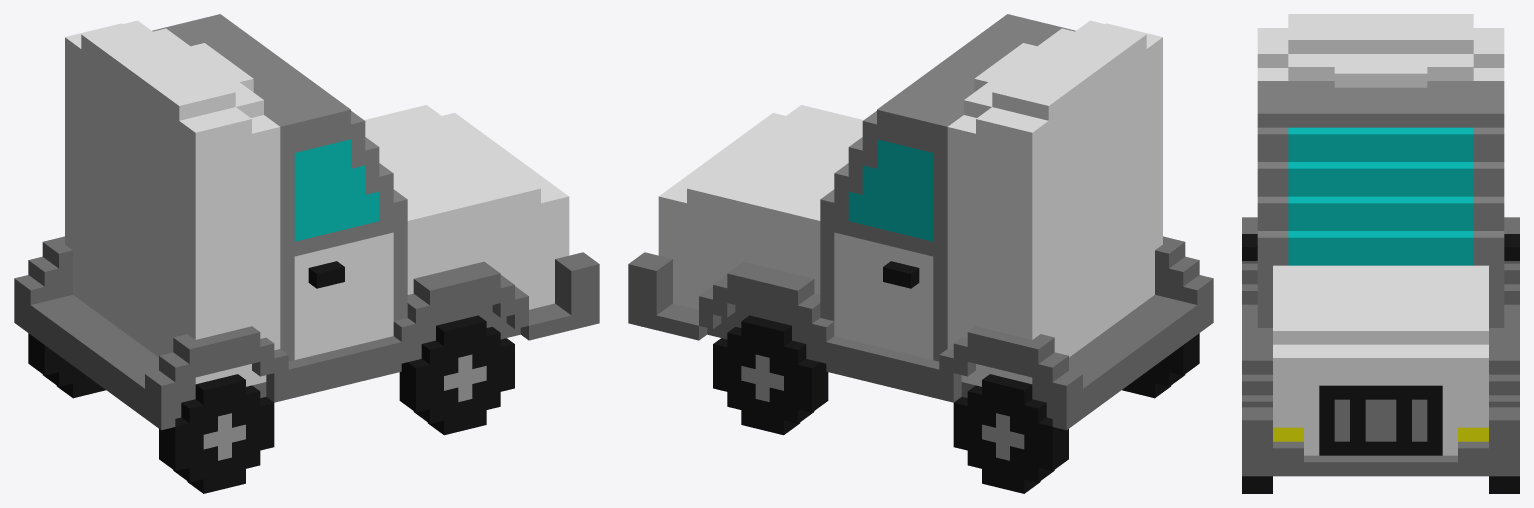
Rendered from truck1_health3.obj.
The picture shows the model from 3 angles, left to right: view 1: azimuth 30°, elevation 25°; view 2: azimuth 150°, elevation 25°; view 3: azimuth 270°, elevation 25°; orthographic projection. The views are drawn at different scales.
Visible parts, largest first — view 1: truck1_health3; view 2: truck1_health3; view 3: truck1_health3.
Part boxes in pixels (x1=…): truck1_health3: x1=14, y1=14, x2=599, y2=493; truck1_health3: x1=628, y1=14, x2=1213, y2=493; truck1_health3: x1=1242, y1=14, x2=1519, y2=493.
Size of the model in its own units: 31 by 25 by 18.
1 material, 1 textured.
